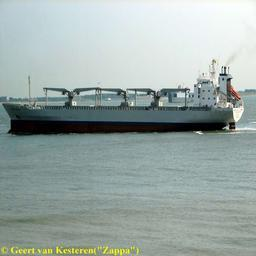Ship: (2, 59, 248, 135)
